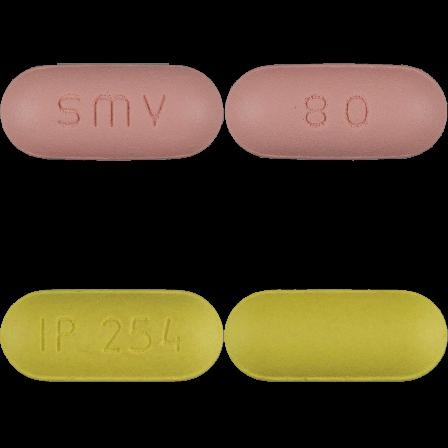60760-019: (0, 0, 224, 224)
